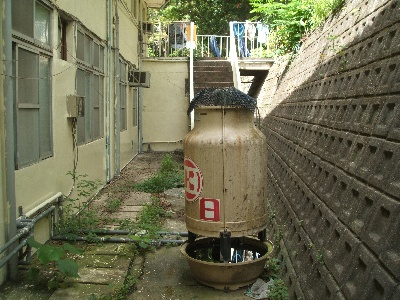water_tower: (180, 87, 275, 291)
